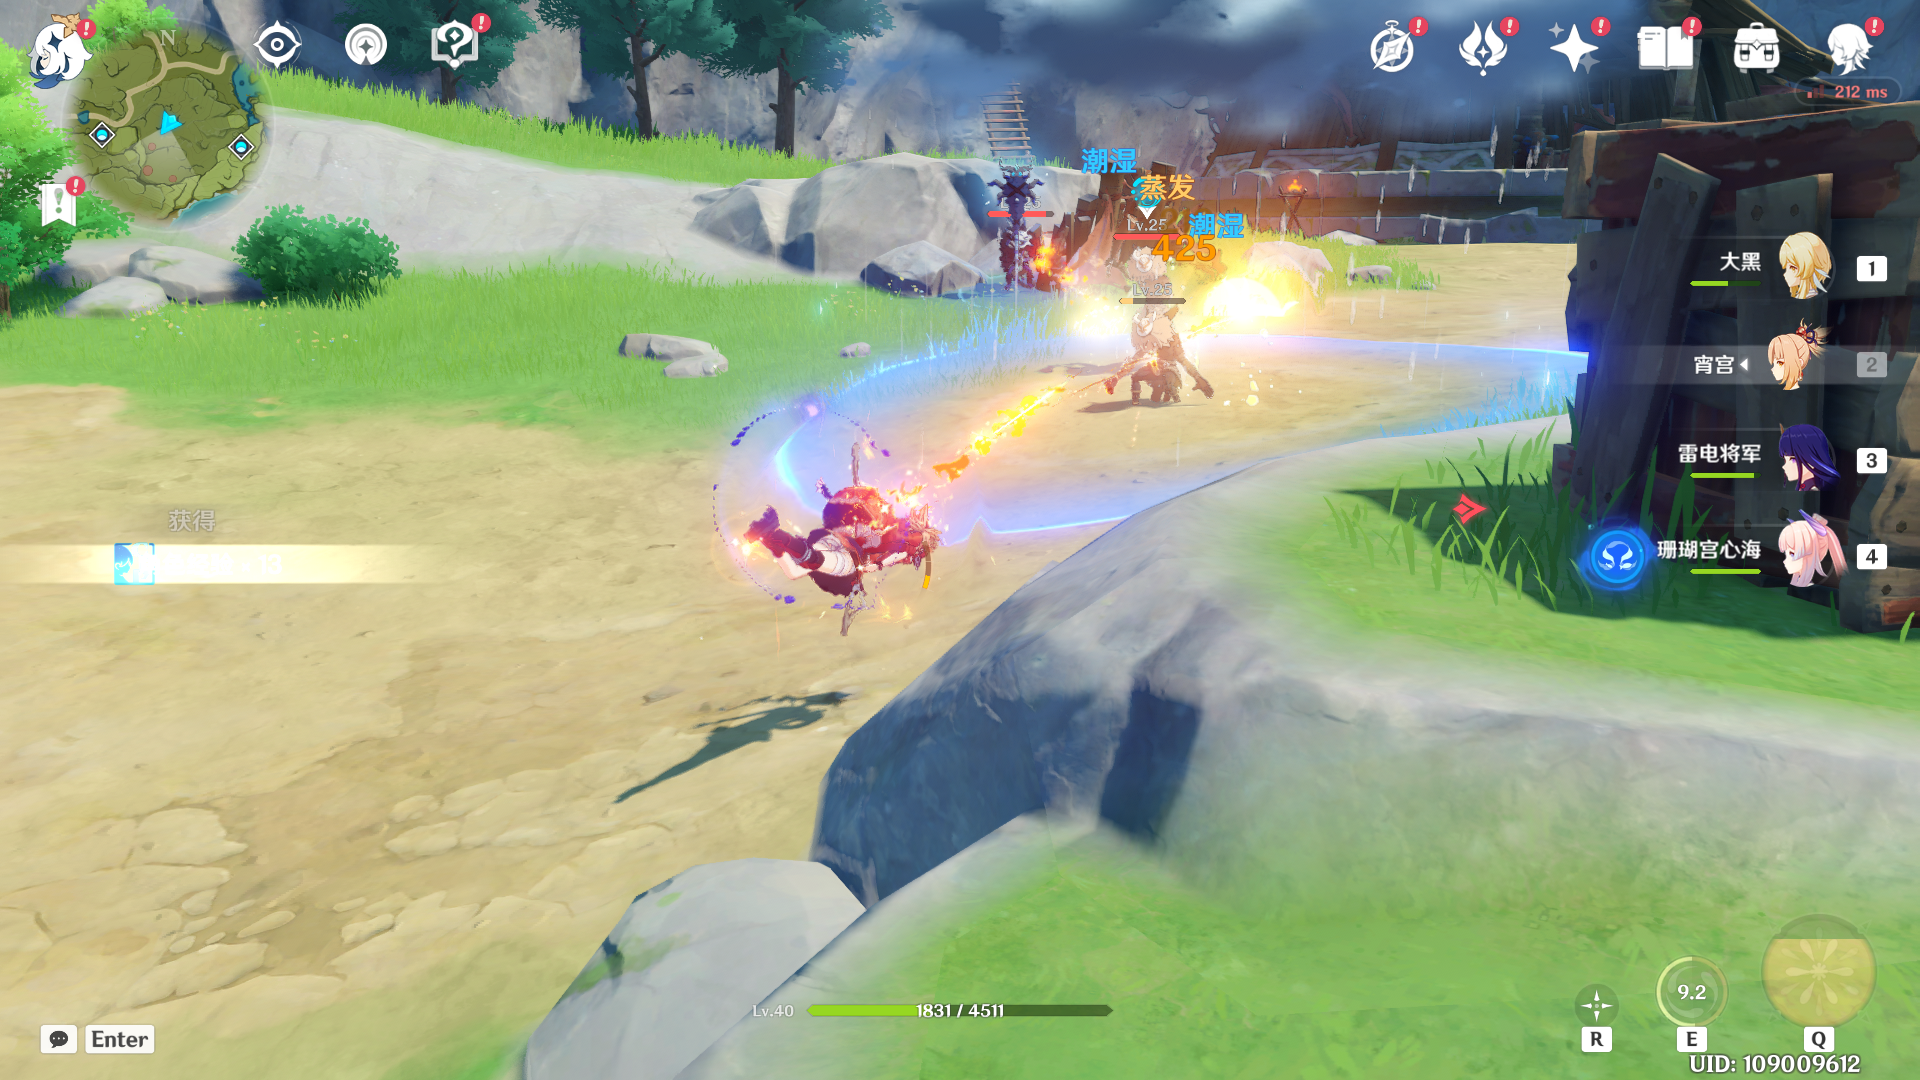character: (731, 436, 977, 630)
hili: (1087, 298, 1244, 423), (968, 152, 1059, 295), (1109, 241, 1193, 330)
